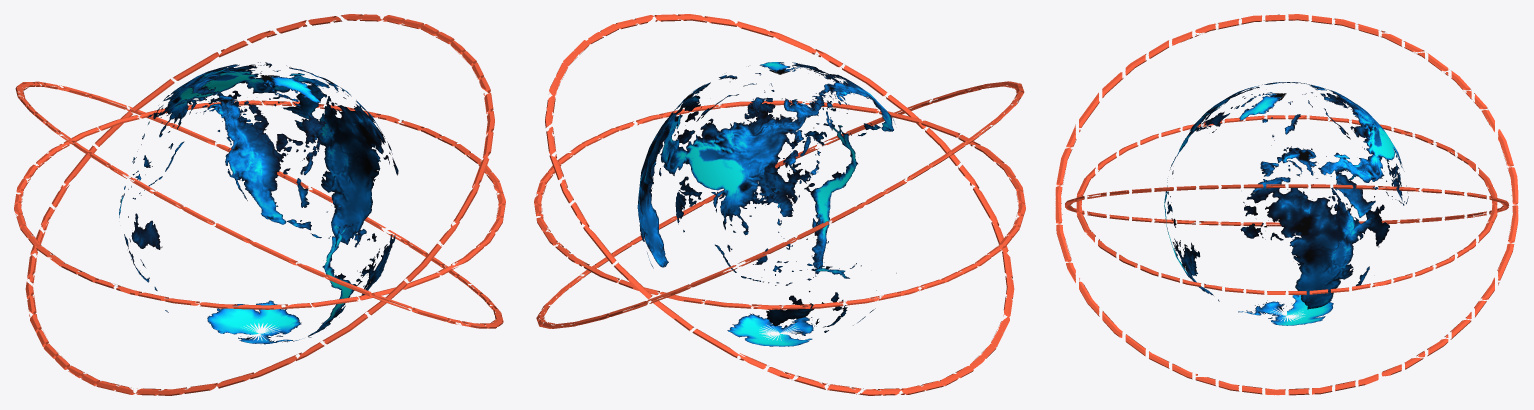
Rendered from FUT0410066.fbx.
The picture shows the model from 3 angles, left to right: view 1: azimuth 30°, elevation 25°; view 2: azimuth 150°, elevation 25°; view 3: azimuth 270°, elevation 25°; orthographic projection. The views are drawn at different scales.
Visible parts, largest first — view 1: smFUT0410066; view 2: smFUT0410066; view 3: smFUT0410066.
Boxes of the visible parts, x1,y1,x2,y2 form: smFUT0410066: [14, 14, 505, 395]; smFUT0410066: [534, 14, 1025, 395]; smFUT0410066: [1055, 14, 1518, 395].
Size of the model in its own units: 343 by 200 by 379.
